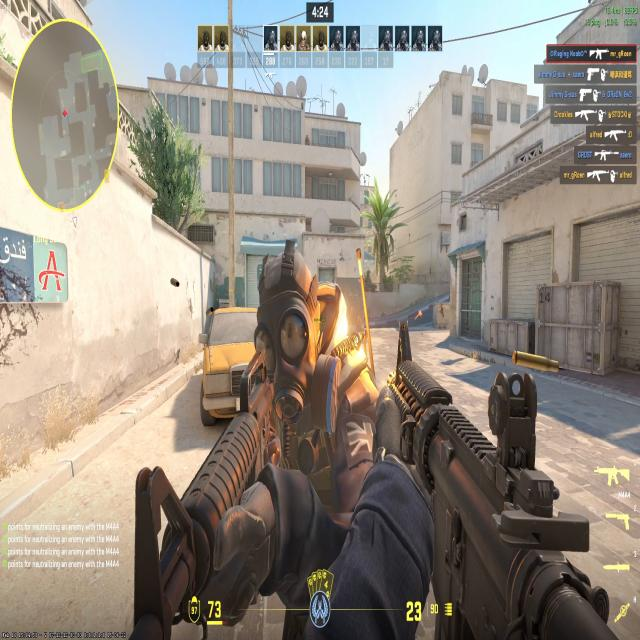player: (134, 238, 394, 640)
